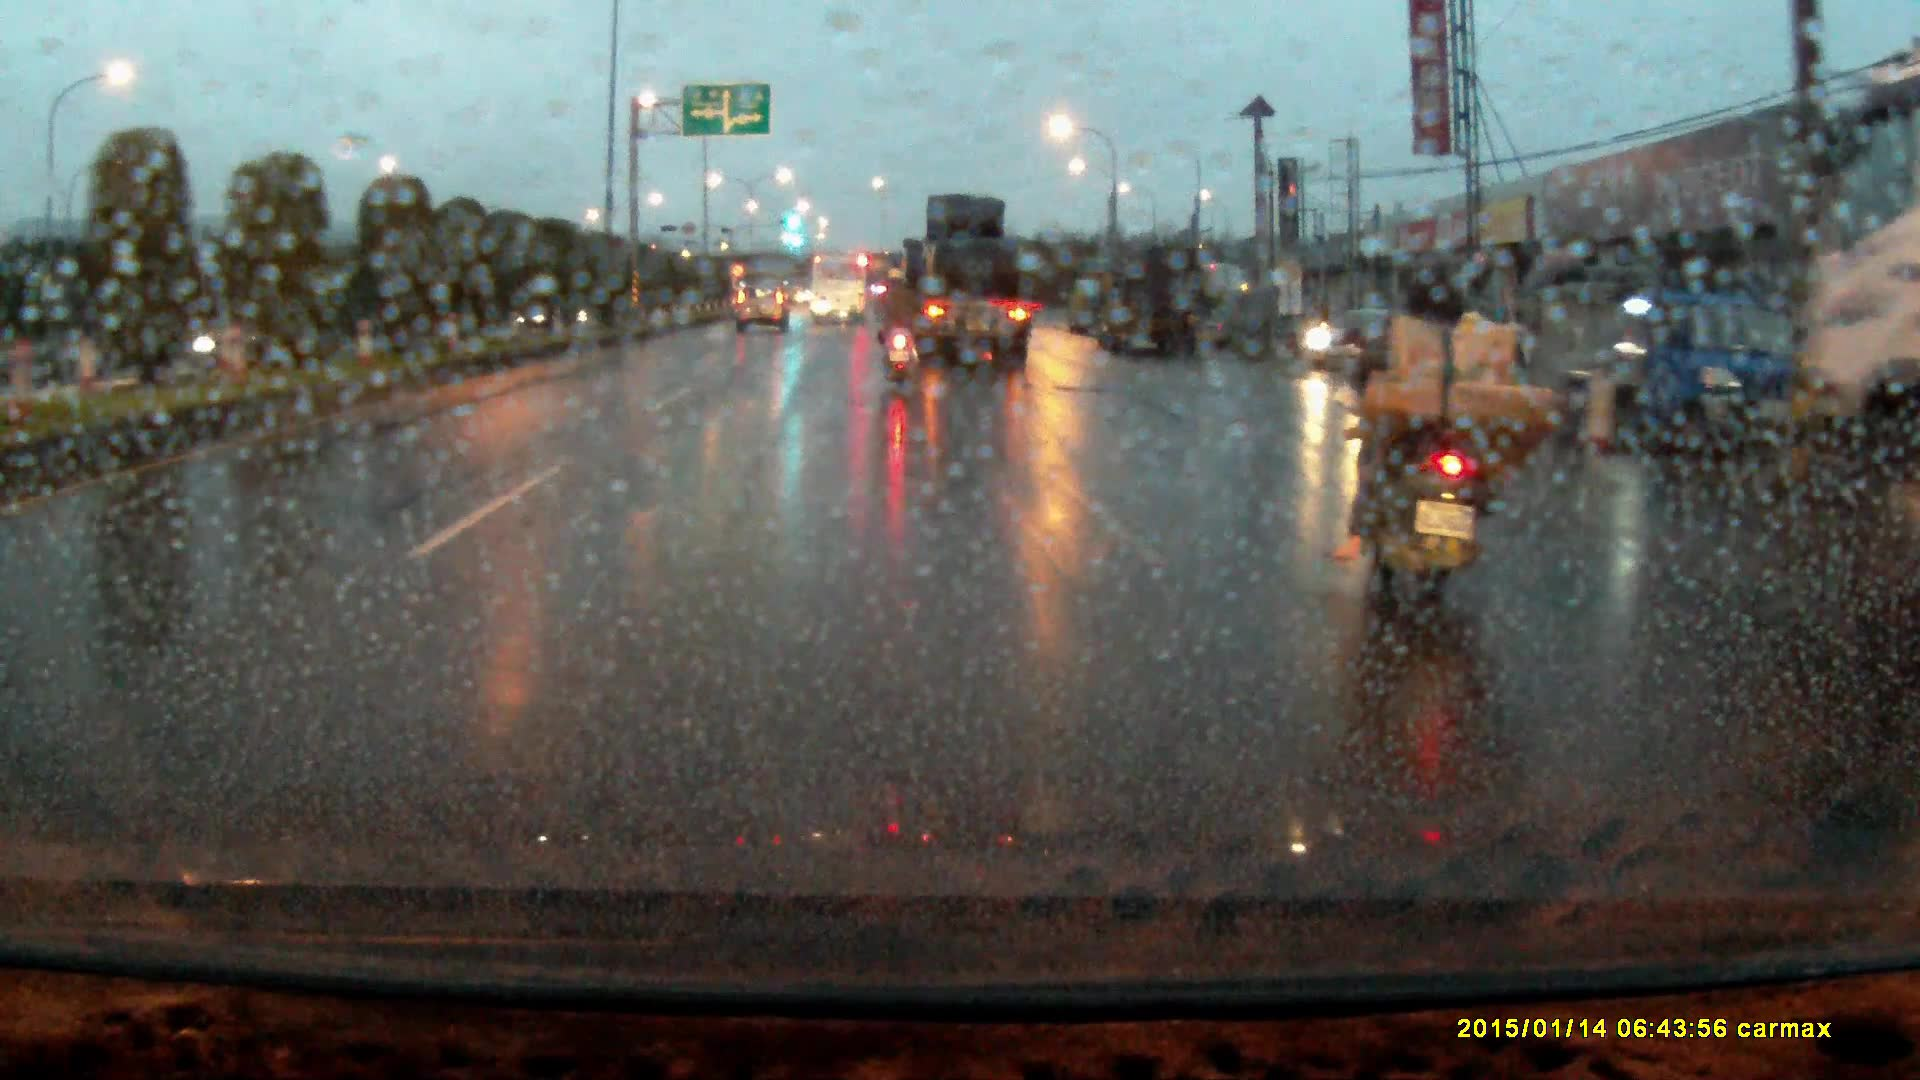rider: (1338, 251, 1569, 653), (875, 266, 928, 383)
vehicle: (1796, 113, 1920, 599), (1561, 286, 1789, 457), (888, 197, 1028, 373), (1105, 251, 1211, 365), (810, 252, 869, 329), (1067, 279, 1116, 338), (736, 289, 791, 339)
